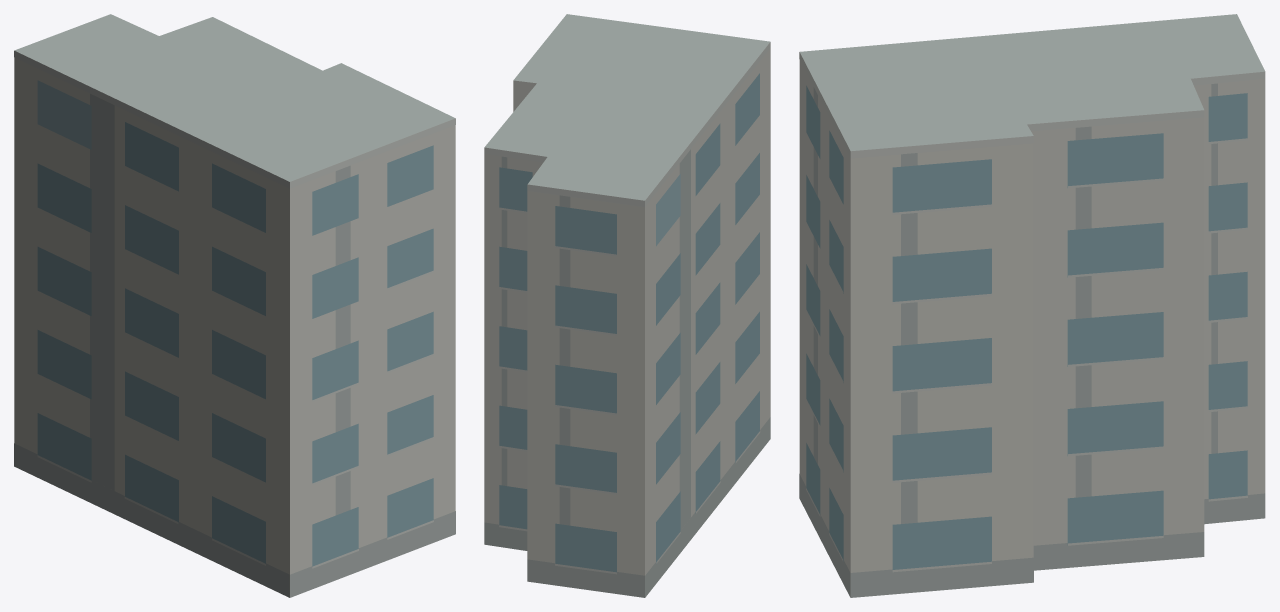
Rendered from survey-upis-32803209.glb.
3 renders of one model, left to right at view 1: azimuth 30°, elevation 25°; view 2: azimuth 150°, elevation 25°; view 3: azimuth 270°, elevation 25°, orthographic. The views are drawn at different scales.
Parts seen in each view (by area): view 1: survey-upis-32803209.tmp; view 2: survey-upis-32803209.tmp; view 3: survey-upis-32803209.tmp.
Boxes of the visible parts, bbox=[...] form: survey-upis-32803209.tmp: bbox=[14, 14, 455, 597]; survey-upis-32803209.tmp: bbox=[484, 14, 770, 597]; survey-upis-32803209.tmp: bbox=[799, 14, 1265, 597].
Size of the model in its own units: 9.82 by 14.9 by 14.09.
